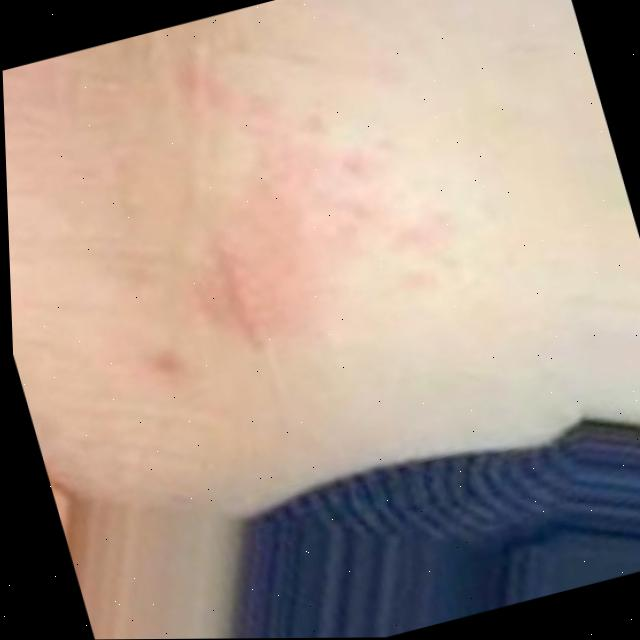Shingles: (151, 44, 471, 355)
